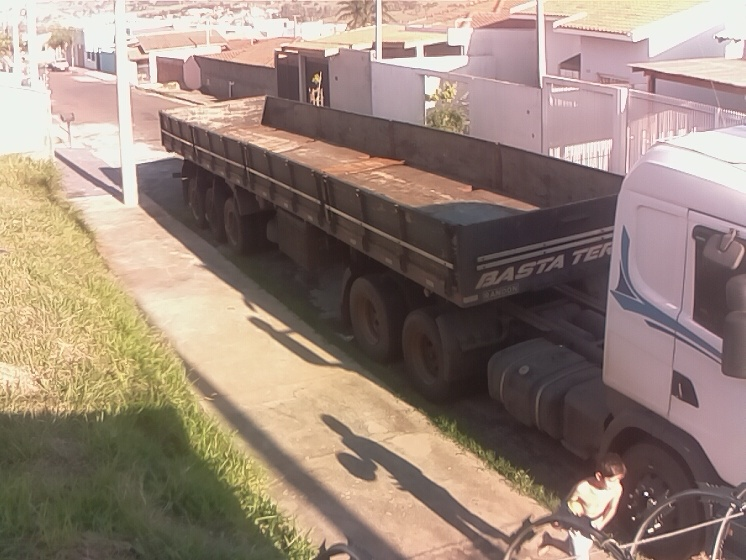person: (534, 450, 625, 560)
